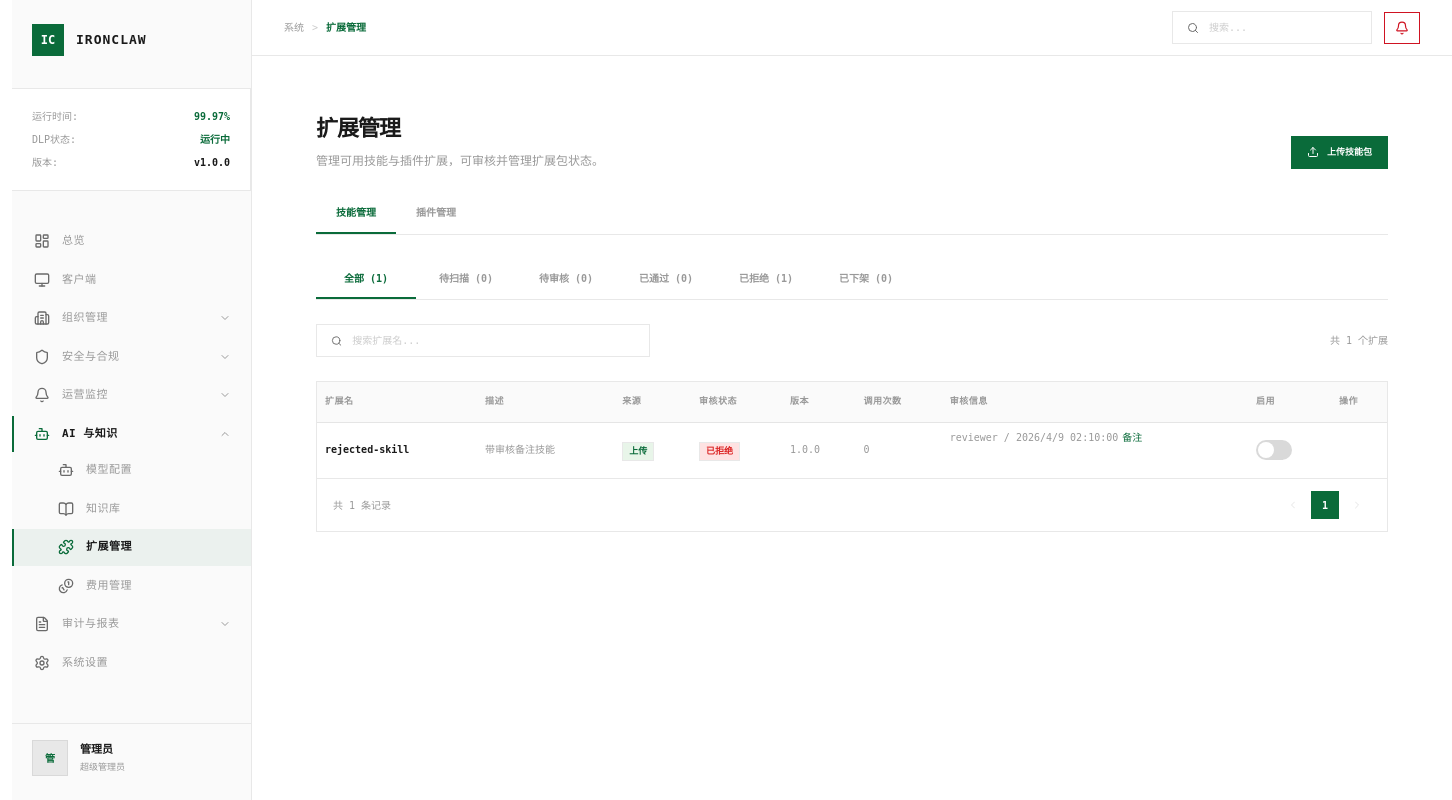
Test: 扩展管理 › 技能列表展示 › 审核信息列应支持展开备注
The width and height of the screenshot is (1452, 800).
What coordinates should you click on to do the following:
click the heading "reviewer / 2026/4/9 02:10:00备注"
I would click on:
 (1047, 438)
Its box is [950,432,1143,443].
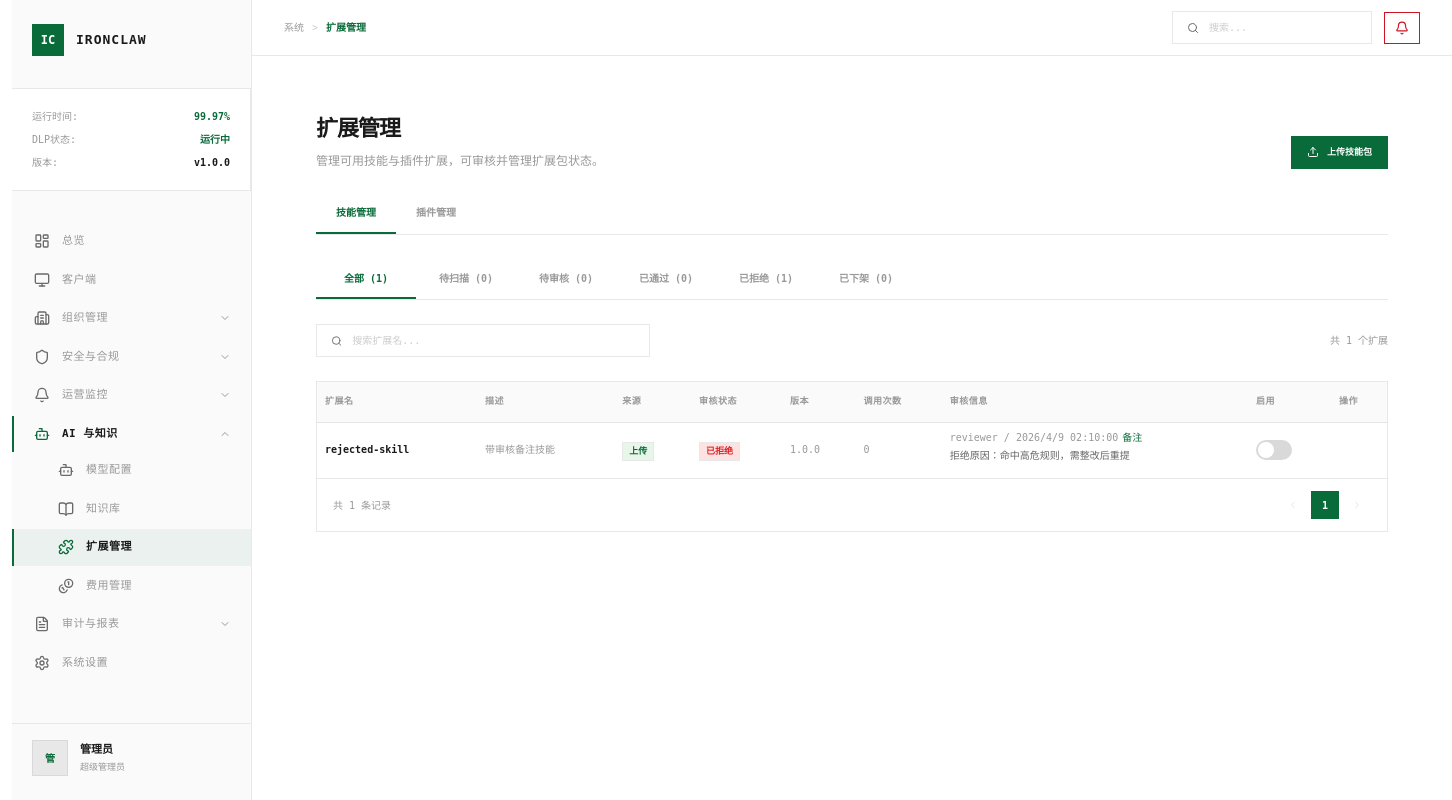
Result: the text "拒绝原因：命中高危规则，需整改后重提" is shown at [950,450,1130,461]
